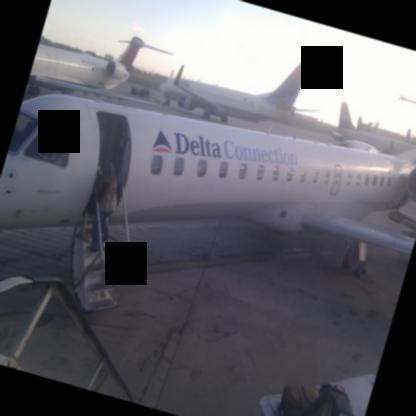backpack: (279, 384, 323, 416)
suitcase: (280, 384, 322, 416), (330, 385, 354, 416)
